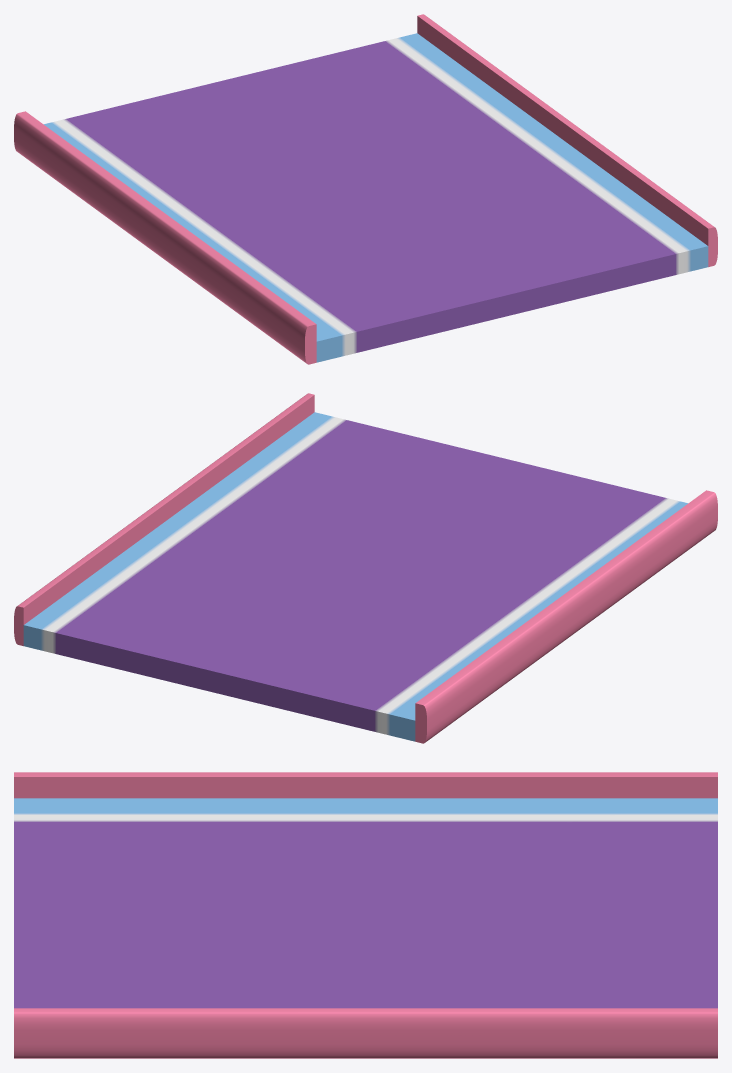
File: Road5M.fbx
The picture shows the model from 3 angles, top to bottom: view 1: azimuth 30°, elevation 25°; view 2: azimuth 150°, elevation 25°; view 3: azimuth 270°, elevation 25°; orthographic projection. The views are drawn at different scales.
Visible parts, largest first — view 1: Road, Road5M_Side; view 2: Road, Road5M_Side; view 3: Road, Road5M_Side.
Boxes of the visible parts, x1,y1,x2,y2 form: Road: [44, 33, 708, 362]; Road5M_Side: [14, 14, 717, 364]; Road: [23, 412, 687, 741]; Road5M_Side: [14, 393, 717, 743]; Road: [14, 798, 717, 1008]; Road5M_Side: [14, 772, 717, 1058].
Size of the model in its own units: 410 by 36.51 by 500.
